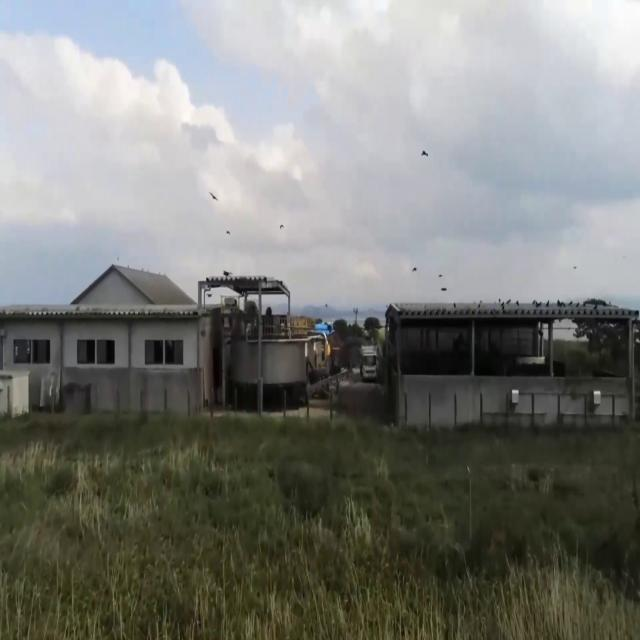bird: (208, 184, 218, 209), (421, 142, 428, 164)
